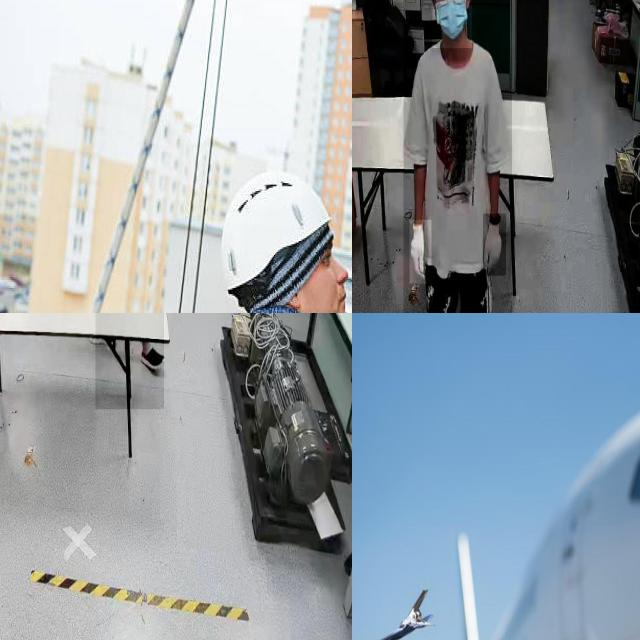face_mask: (432, 0, 471, 48)
hand_glove: (483, 214, 507, 276), (410, 220, 432, 284)
person: (403, 0, 512, 313), (95, 313, 164, 410)
shoes: (140, 341, 168, 373)
